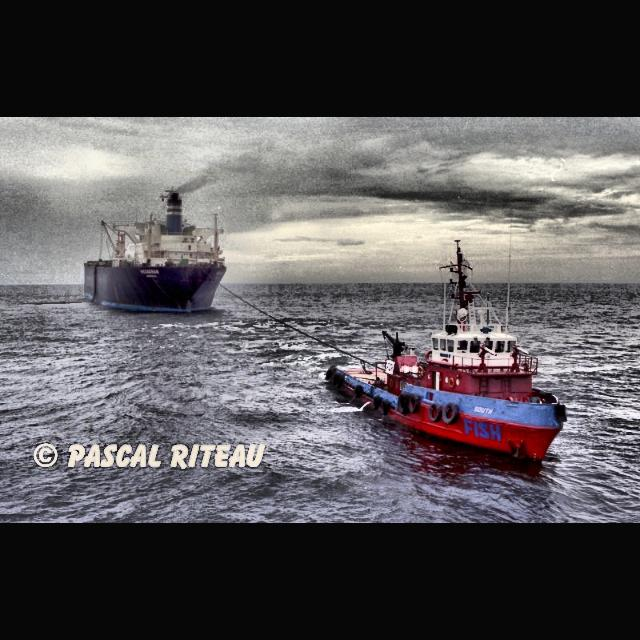anchor_handling_tug_supply: (326, 286, 568, 466)
container: (80, 196, 230, 314)
